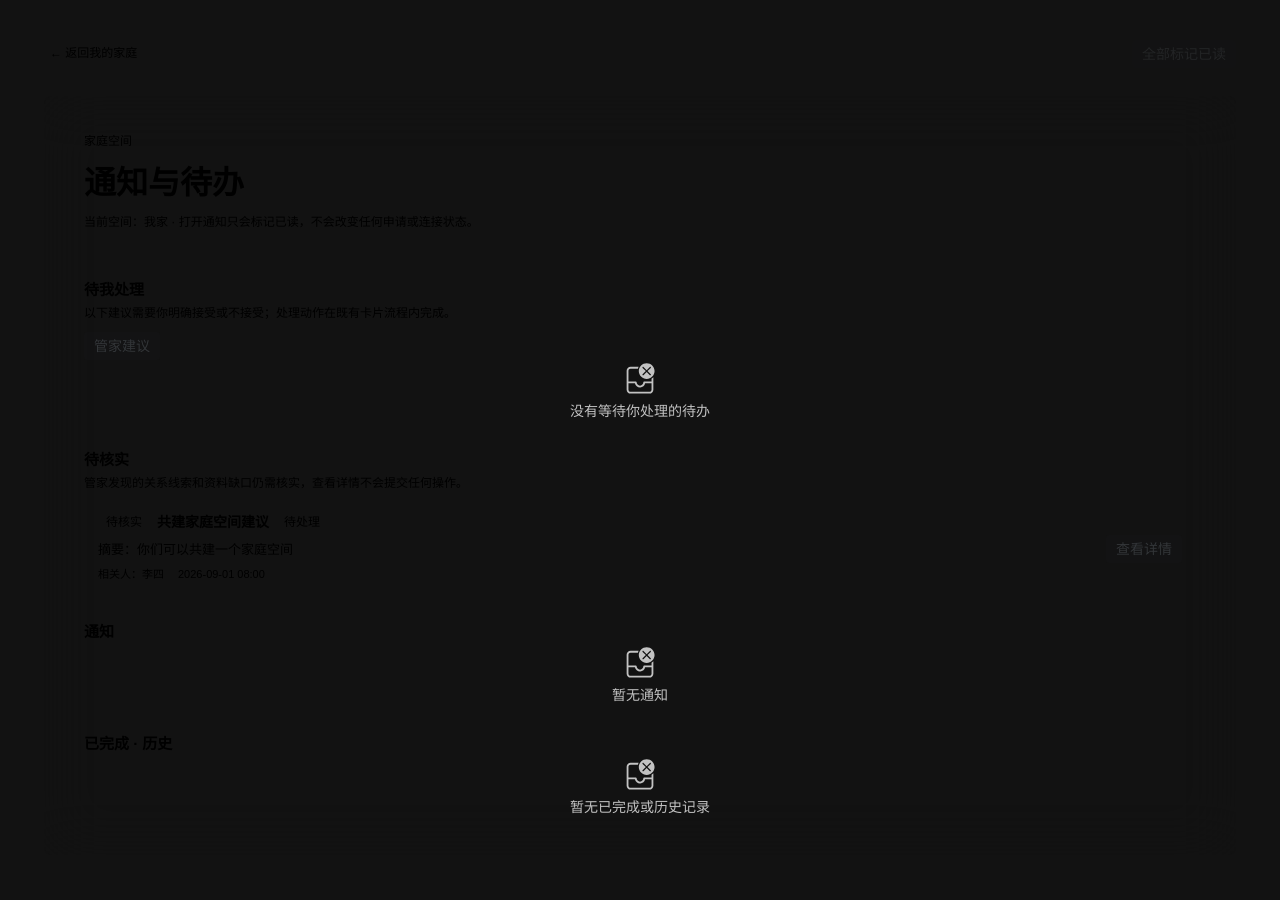
Test: NotificationsView（PRD §2.6：三分区 + 已读与 ActionCard 严格分离） › 忽略后刷新当前详情及通知分类，移除失效操作按钮
This screenshot has width=1280, height=900.
Click the button with test id "open-details" at [1144, 548], box [1106,534,1182,562]
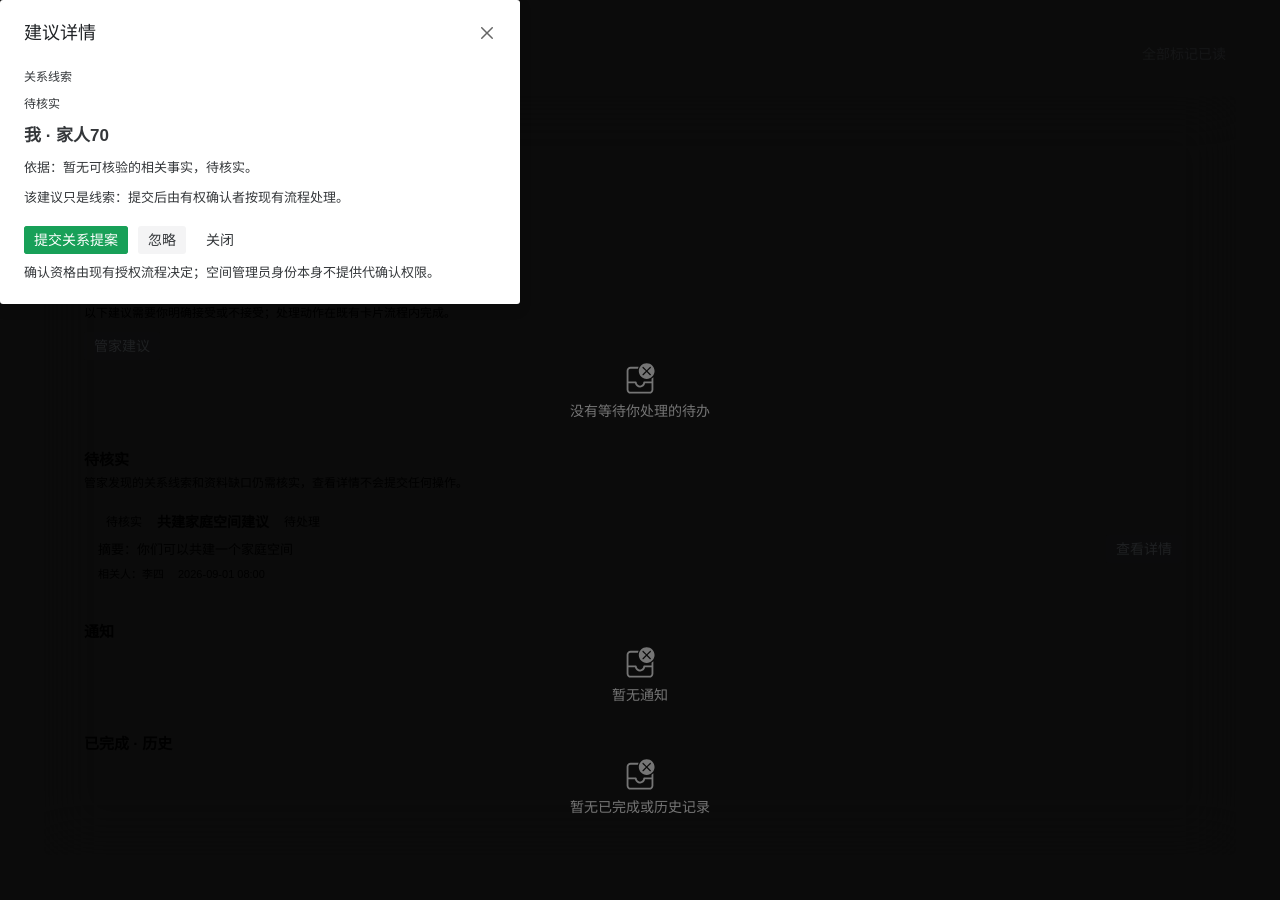
Result: the button with test id "suggestion-dismiss" is shown
Click the button with test id "suggestion-dismiss" at [162, 240], box [138,226,186,254]
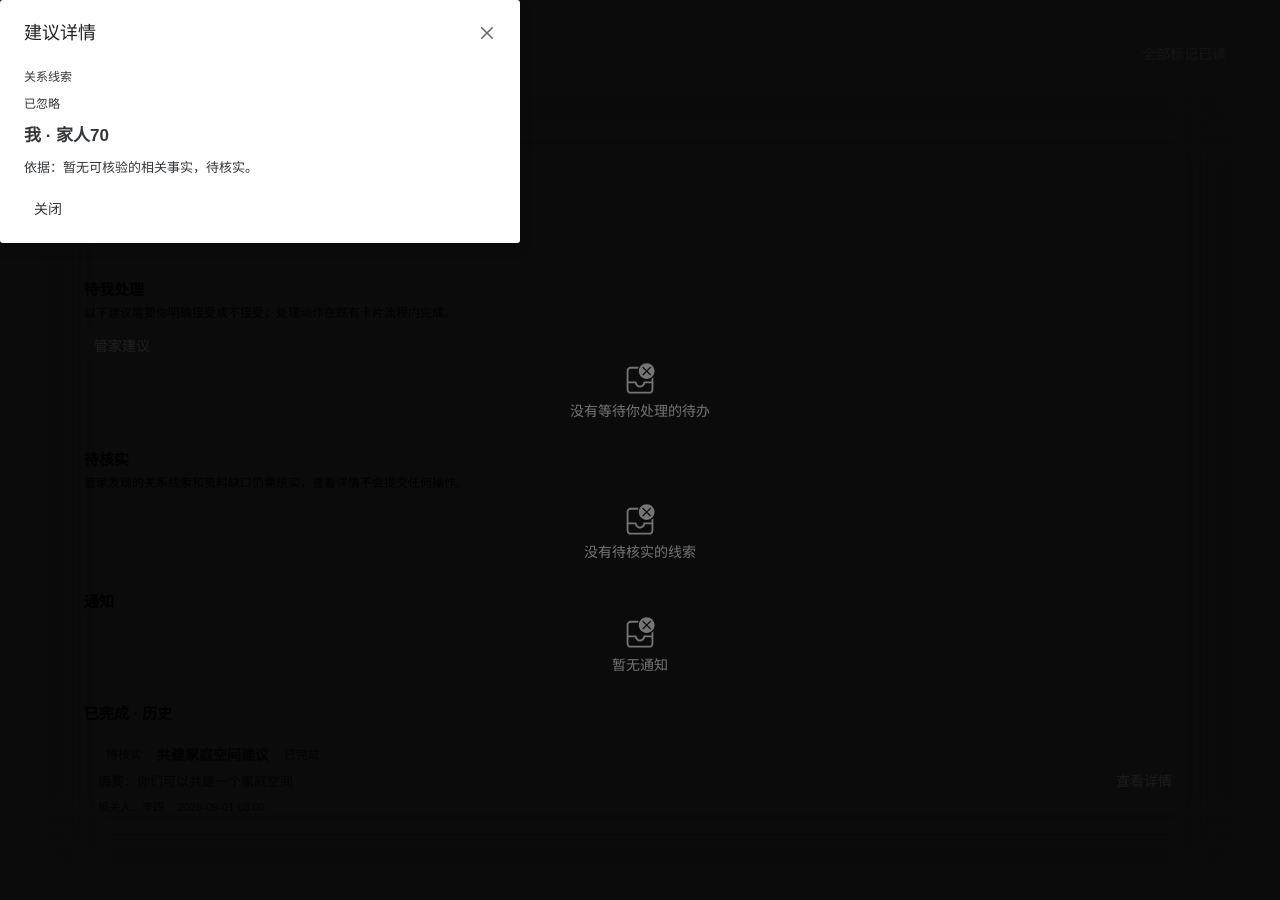
Result: the button with test id "suggestion-submit" is gone
Result: the button with test id "suggestion-dismiss" is gone
